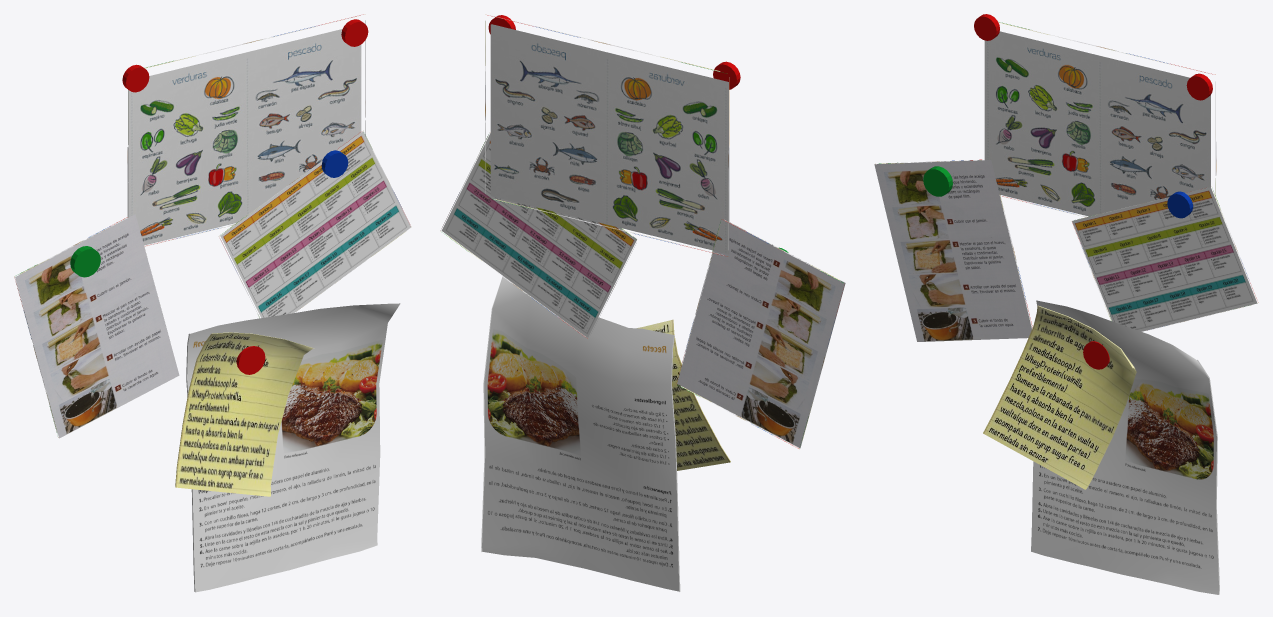
Rendered from Recipes.FBX.
The picture shows the model from 3 angles, left to right: view 1: azimuth 30°, elevation 25°; view 2: azimuth 150°, elevation 25°; view 3: azimuth 330°, elevation 25°; orthographic projection. The views are drawn at different scales.
Parts seen in each view (by area): view 1: recipes; view 2: recipes; view 3: recipes.
Part boxes in pixels (x1,y1,x2,y2): recipes: [14, 14, 410, 592]; recipes: [440, 15, 845, 591]; recipes: [874, 14, 1258, 594].
Size of the model in its own units: 36.59 by 48.07 by 5.58.
Materials: 1 (1 with a texture image).
